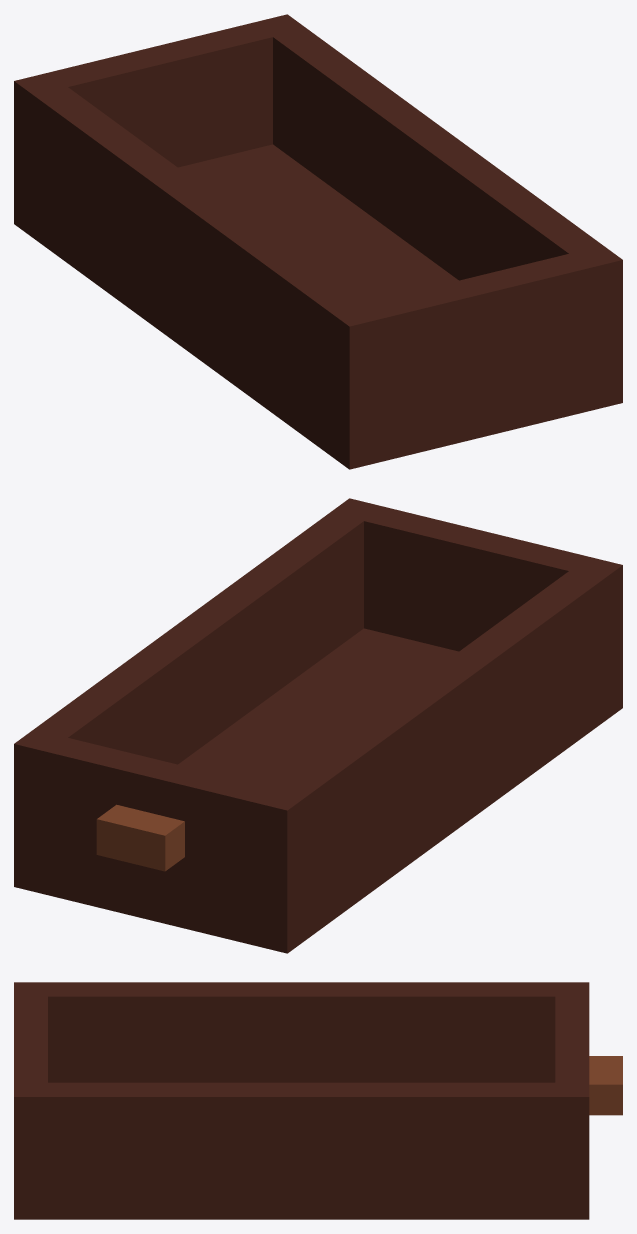
The model's file is desk_drawer_1.glb.
3 views of the same model, one above another, from view 1: azimuth 30°, elevation 25°; view 2: azimuth 150°, elevation 25°; view 3: azimuth 270°, elevation 25° (orthographic). The views are drawn at different scales.
Parts seen in each view (by area): view 1: model; view 2: model; view 3: model.
Part boxes in pixels (x1=…): model: x1=14, y1=14, x2=622, y2=469; model: x1=14, y1=498, x2=622, y2=953; model: x1=14, y1=982, x2=622, y2=1219.
Bounding box in the file's own units: 0.8 × 0.4 × 1.8.
